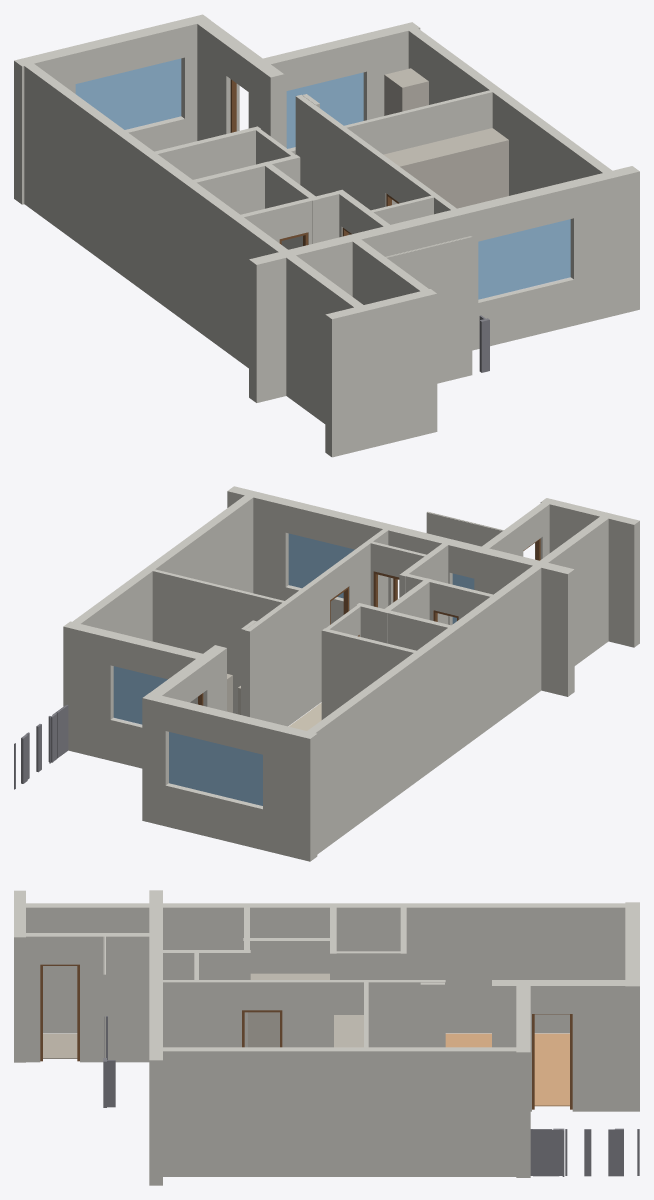
3 views of the same model, one above another, from view 1: azimuth 30°, elevation 25°; view 2: azimuth 150°, elevation 25°; view 3: azimuth 270°, elevation 25° (orthographic). The views are drawn at different scales.
Parts seen in each view (by area): view 1: walls, furniture_1_closet, window_2, window_4, window_0, furniture_0_closet; view 2: walls, window_4, window_2, window_0, railings; view 3: walls, railings, floor_0_Living_Room, furniture_2_closet, furniture_1_closet, floor_8_Storage, door_10, door_3.
Boxes of the visible parts, x1,y1,x2,y2 form: walls: [14, 14, 639, 457]; furniture_1_closet: [383, 128, 508, 208]; window_2: [478, 219, 570, 299]; window_4: [75, 58, 181, 129]; window_0: [286, 72, 363, 148]; furniture_0_closet: [384, 68, 428, 115]; walls: [63, 486, 639, 861]; window_4: [169, 732, 262, 805]; window_2: [288, 533, 354, 598]; window_0: [113, 666, 167, 724]; railings: [14, 705, 68, 789]; walls: [14, 890, 639, 1185]; railings: [103, 1016, 639, 1176]; floor_0_Living_Room: [445, 1033, 569, 1106]; furniture_2_closet: [248, 973, 329, 1047]; furniture_1_closet: [334, 1015, 363, 1047]; floor_8_Storage: [43, 1033, 77, 1058]; door_10: [40, 964, 79, 1061]; door_3: [532, 1014, 572, 1109].
Bounding box in the file's own units: 7.84 × 2.72 × 12.2.
